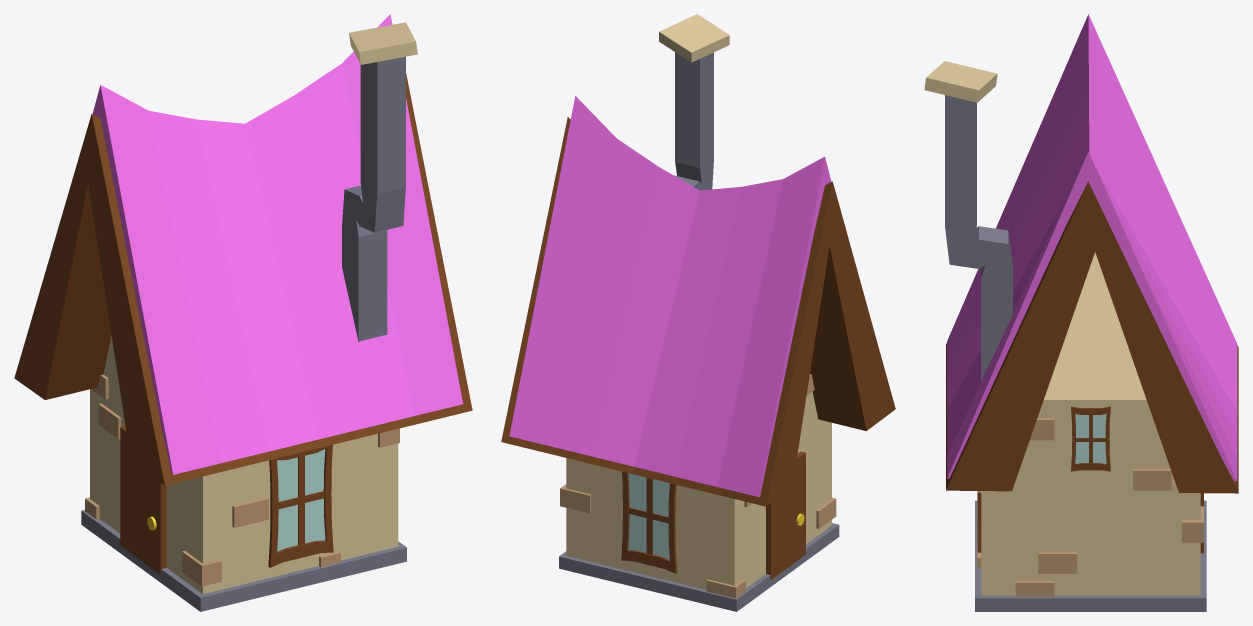
The model's file is HousePink.fbx.
3 renders of one model, left to right at view 1: azimuth 30°, elevation 25°; view 2: azimuth 150°, elevation 25°; view 3: azimuth 270°, elevation 25°, orthographic. The views are drawn at different scales.
Visible parts, largest first — view 1: Roof, UnderLayer, Base, Pole, BaseConcrete, Cube, Glass.001, frame.001, PoleTop, Cube.005, Cube.009; view 2: Roof, UnderLayer, Base, Pole, BaseConcrete, Cube, Glass.002, PoleTop, frame.002, Cube.013, Cross.004, Cube.007; view 3: Roof, Base, UnderLayer, Pole, BaseConcrete, PoleTop, Glass.004, frame.004, Cube.014, Cube.010, Cube.012, Cube.013 (+1 smaller).
Boxes of the visible parts, x1=… form: Roof: x1=92, y1=14, x2=462, y2=474; UnderLayer: x1=14, y1=73, x2=472, y2=485; Base: x1=90, y1=335, x2=398, y2=593; Pole: x1=342, y1=56, x2=405, y2=341; BaseConcrete: x1=81, y1=510, x2=406, y2=611; Cube: x1=120, y1=425, x2=166, y2=574; Glass.001: x1=277, y1=449, x2=325, y2=551; frame.001: x1=268, y1=445, x2=333, y2=567; PoleTop: x1=349, y1=22, x2=417, y2=64; Cube.005: x1=182, y1=550, x2=221, y2=586; Cube.009: x1=232, y1=497, x2=268, y2=527; Roof: x1=509, y1=96, x2=831, y2=496; UnderLayer: x1=501, y1=117, x2=895, y2=506; Base: x1=566, y1=392, x2=831, y2=589; Pole: x1=674, y1=52, x2=713, y2=190; BaseConcrete: x1=559, y1=523, x2=839, y2=611; Cube: x1=766, y1=451, x2=805, y2=579; Glass.002: x1=628, y1=473, x2=669, y2=559; PoleTop: x1=659, y1=14, x2=729, y2=62; frame.002: x1=621, y1=471, x2=677, y2=573; Cube.013: x1=560, y1=484, x2=591, y2=513; Cross.004: x1=646, y1=477, x2=652, y2=554; Cube.007: x1=706, y1=579, x2=745, y2=598; Roof: x1=947, y1=14, x2=1237, y2=481; Base: x1=981, y1=252, x2=1200, y2=595; UnderLayer: x1=946, y1=181, x2=1238, y2=493; Pole: x1=945, y1=95, x2=1012, y2=380; BaseConcrete: x1=975, y1=500, x2=1206, y2=611; PoleTop: x1=924, y1=61, x2=997, y2=102; Glass.004: x1=1075, y1=414, x2=1106, y2=463; frame.004: x1=1071, y1=406, x2=1110, y2=471; Cube.014: x1=1038, y1=552, x2=1077, y2=573; Cube.010: x1=1133, y1=469, x2=1171, y2=490; Cube.012: x1=1015, y1=581, x2=1054, y2=597; Cube.013: x1=1181, y1=506, x2=1203, y2=542.
Size of the model in its own units: 315 by 530 by 287.
